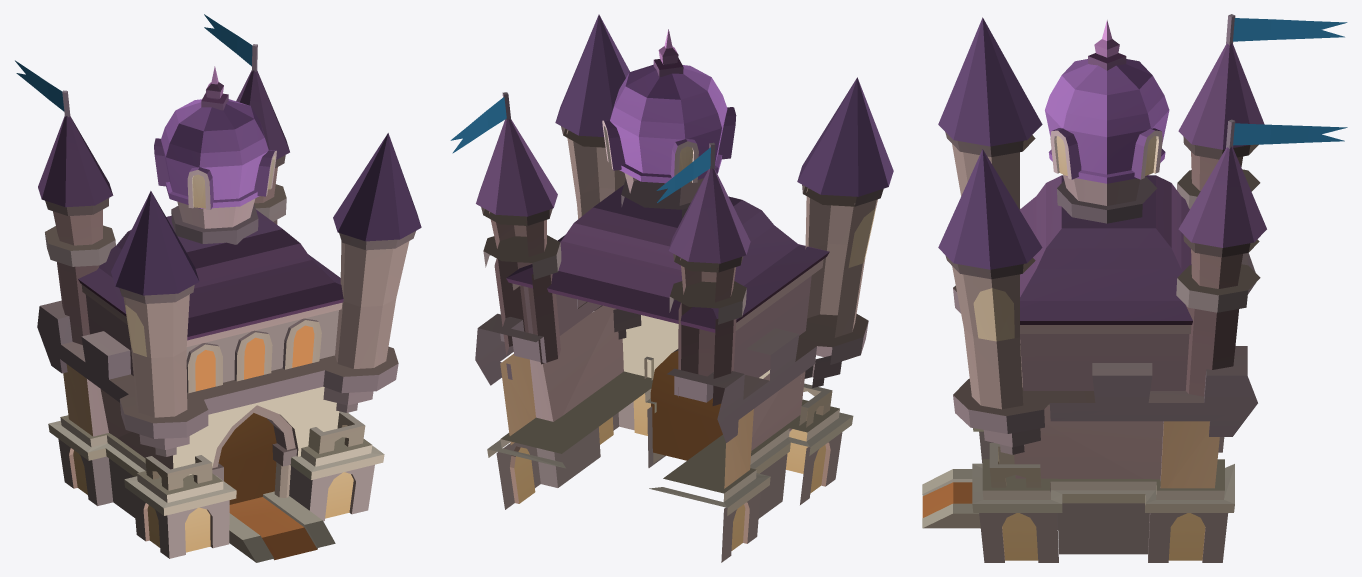
File: castle01.fbx
3 renders of one model, left to right at view 1: azimuth 30°, elevation 25°; view 2: azimuth 150°, elevation 25°; view 3: azimuth 270°, elevation 25°, orthographic. The views are drawn at different scales.
Visible parts, largest first — view 1: castle01; view 2: castle01; view 3: castle01.
Part boxes in pixels (x1=…): castle01: x1=15, y1=14, x2=421, y2=562; castle01: x1=450, y1=14, x2=893, y2=562; castle01: x1=922, y1=14, x2=1347, y2=562.
Size of the model in its own units: 3.78 by 5.15 by 4.06.
1 material, 1 textured.
